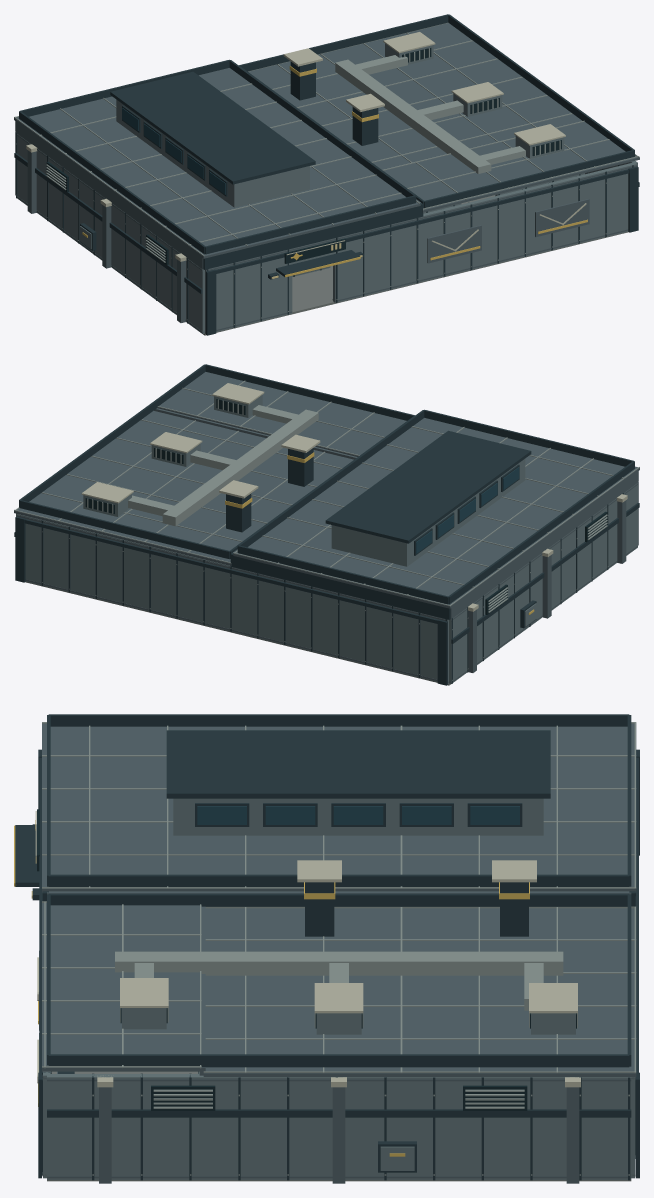
The model's file is FSA_ENV_Military_02_TrainingHangar.glb.
3 views of the same model, one above another, from view 1: azimuth 30°, elevation 25°; view 2: azimuth 150°, elevation 25°; view 3: azimuth 270°, elevation 25° (orthographic). The views are drawn at different scales.
Visible parts, largest first — view 1: RoofHall, RoofTraining, FrontPanel15, Exterior_MonitorCap_80, WestPanel108, RoofArmory, FrontPanel0, Exterior_ServiceDuct_149, Exterior_RoofMonitor_79, RoofHallEnd320, RoofHallSide317, Floor (+28 smaller); view 2: BackPanel57, RoofHall, RoofTraining, Exterior_MonitorCap_80, WestPanel108, RoofArmory, Exterior_RoofMonitor_79, Exterior_ServiceDuct_149, RoofHallEnd319, RoofHallSide317, Exterior_HeaderBand_44, Exterior_Parapet_75 (+24 smaller); view 3: RoofTraining, RoofHall, EastPanel147, Exterior_MonitorCap_80, RoofArmory, Exterior_ServiceDuct_149, Exterior_Parapet_78, Exterior_RoofMonitor_79, Exterior_Parapet_73, Exterior_Parapet_77, Exterior_Parapet_74, Exterior_SideBelt_22 (+39 smaller).
Part boxes in pixels (x1=…): RoofHall: x1=14, y1=68, x2=420, y2=258; RoofTraining: x1=248, y1=23, x2=581, y2=169; FrontPanel15: x1=333, y1=162, x2=636, y2=302; Exterior_MonitorCap_80: x1=110, y1=71, x2=315, y2=184; WestPanel108: x1=17, y1=134, x2=204, y2=333; RoofArmory: x1=383, y1=121, x2=639, y2=212; FrontPanel0: x1=205, y1=248, x2=292, y2=334; Exterior_ServiceDuct_149: x1=335, y1=59, x2=491, y2=173; Exterior_RoofMonitor_79: x1=116, y1=99, x2=309, y2=207; RoofHallEnd320: x1=203, y1=203, x2=423, y2=269; RoofHallSide317: x1=16, y1=121, x2=203, y2=268; Floor: x1=203, y1=195, x2=628, y2=335; BackPanel57: x1=17, y1=514, x2=448, y2=684; RoofHall: x1=233, y1=418, x2=639, y2=608; RoofTraining: x1=14, y1=410, x2=353, y2=565; Exterior_MonitorCap_80: x1=325, y1=430, x2=531, y2=543; WestPanel108: x1=449, y1=483, x2=637, y2=683; RoofArmory: x1=157, y1=372, x2=406, y2=456; Exterior_RoofMonitor_79: x1=331, y1=459, x2=525, y2=566; Exterior_ServiceDuct_149: x1=162, y1=409, x2=318, y2=526; RoofHallEnd319: x1=230, y1=553, x2=450, y2=619; RoofHallSide317: x1=450, y1=471, x2=637, y2=618; Exterior_HeaderBand_44: x1=24, y1=519, x2=437, y2=623; Exterior_Parapet_75: x1=19, y1=500, x2=229, y2=559; RoofTraining: x1=203, y1=908, x2=636, y2=1076; RoofHall: x1=42, y1=723, x2=636, y2=892; EastPanel147: x1=47, y1=1074, x2=631, y2=1179; Exterior_MonitorCap_80: x1=166, y1=730, x2=550, y2=798; RoofArmory: x1=42, y1=903, x2=201, y2=1071; Exterior_ServiceDuct_149: x1=115, y1=951, x2=563, y2=975; Exterior_Parapet_78: x1=48, y1=1054, x2=629, y2=1067; Exterior_RoofMonitor_79: x1=173, y1=798, x2=543, y2=835; Exterior_Parapet_73: x1=48, y1=714, x2=629, y2=726; Exterior_Parapet_77: x1=48, y1=893, x2=629, y2=906; Exterior_Parapet_74: x1=48, y1=874, x2=629, y2=886; Exterior_SideBelt_22: x1=47, y1=1109, x2=631, y2=1117.
Size of the model in its own units: 41.52 by 9.76 by 32.12.
